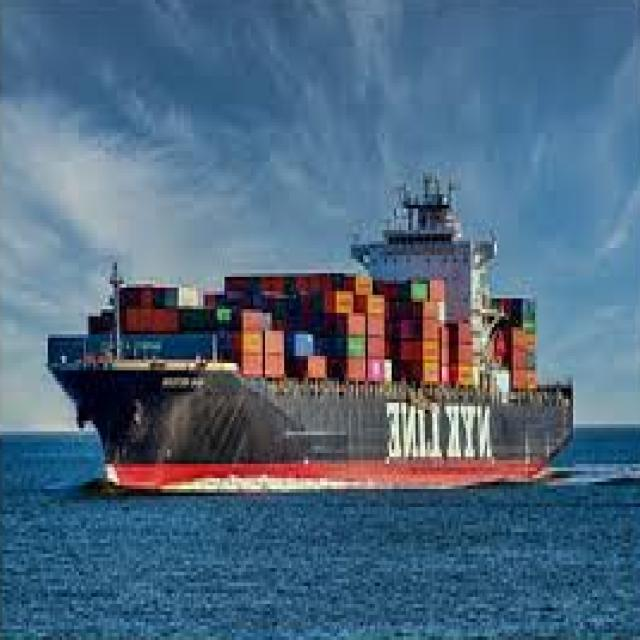cargoship: (49, 160, 580, 497)
